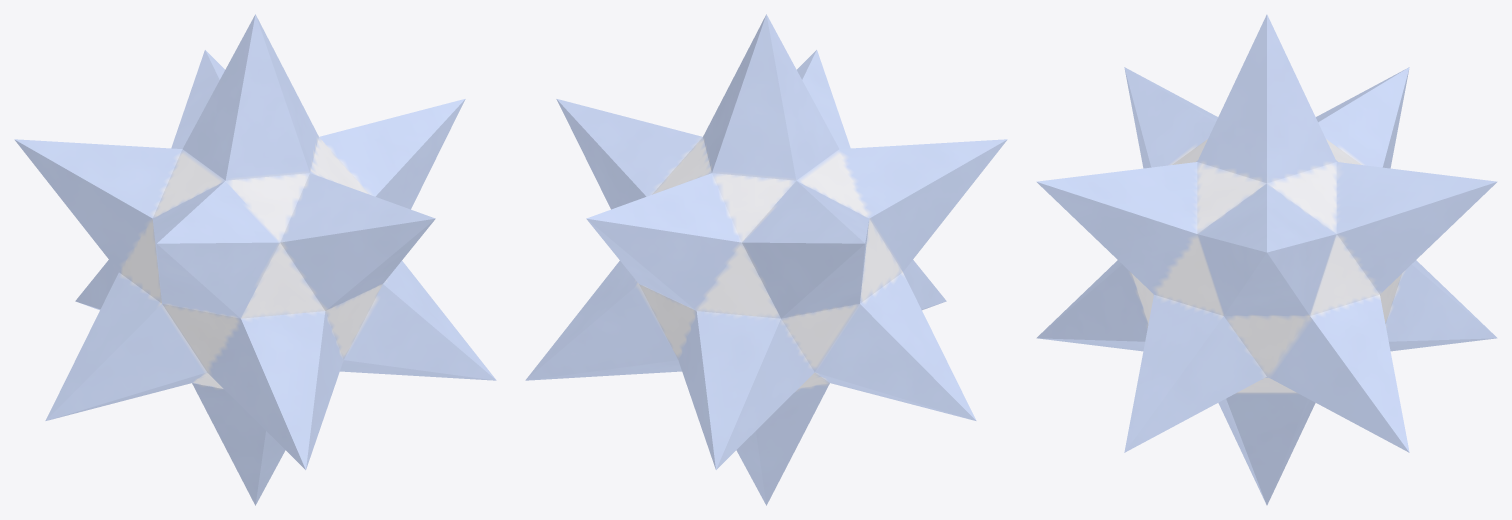
File: star-spire.glb
3 views of the same model, side by side, from view 1: azimuth 30°, elevation 25°; view 2: azimuth 150°, elevation 25°; view 3: azimuth 270°, elevation 25° (orthographic).
Visible parts, largest first — view 1: Star_Spire; view 2: Star_Spire; view 3: Star_Spire.
Boxes of the visible parts, <box> form: Star_Spire: <box>14,14,496,505</box>; Star_Spire: <box>525,14,1007,505</box>; Star_Spire: <box>1036,14,1497,505</box>.
Bounding box in the file's own units: 3.13 × 3.5 × 2.98.
1 material, 1 textured.
